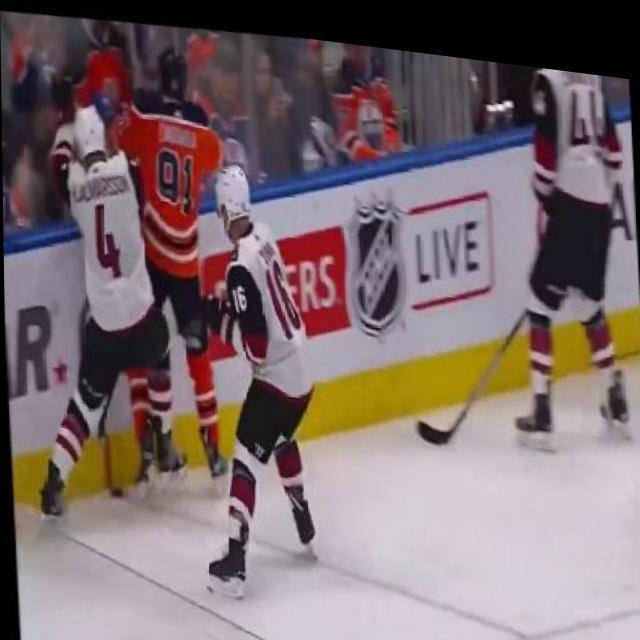fight: (46, 25, 228, 482)
